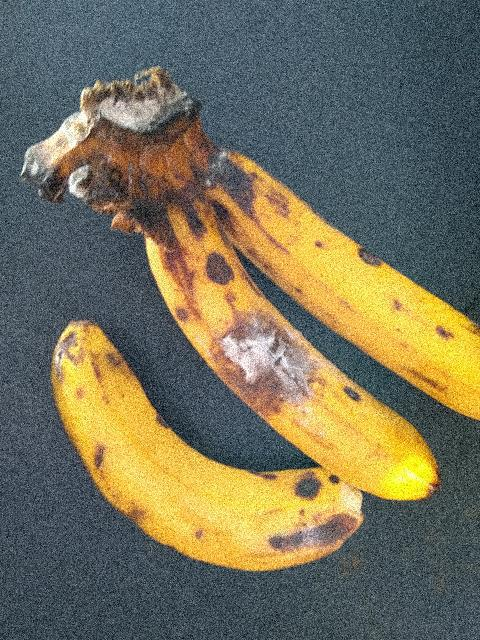overripe: (35, 318, 352, 608), (143, 217, 442, 502), (204, 154, 479, 416)
rotten: (178, 294, 335, 455)
